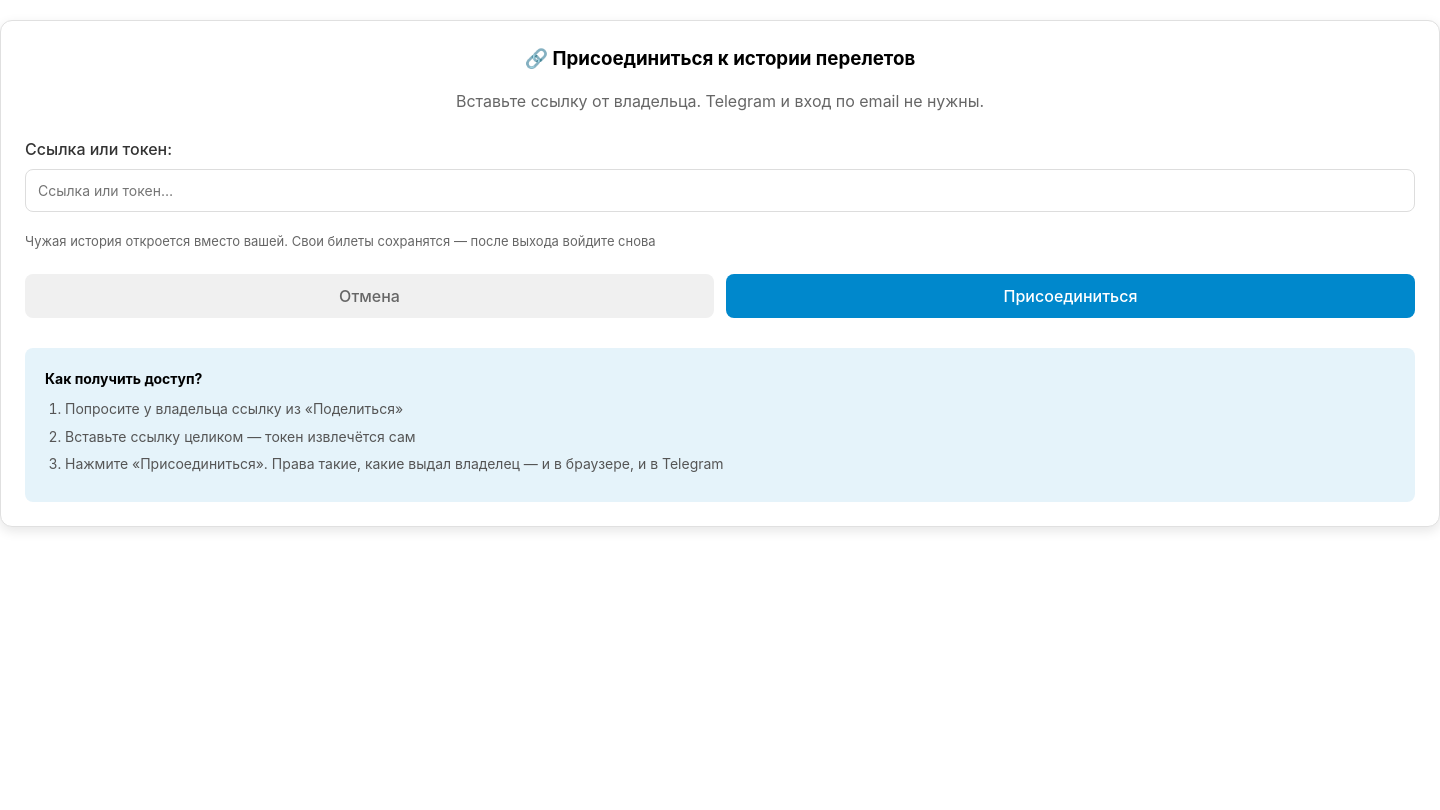
Test case: JoinSessionForm › does not send a random URL as a token
Type "https://example.com/flight-tracker/" into the field labelled "Ссылка или токен:" at (720,191), box [25,169,1415,212]
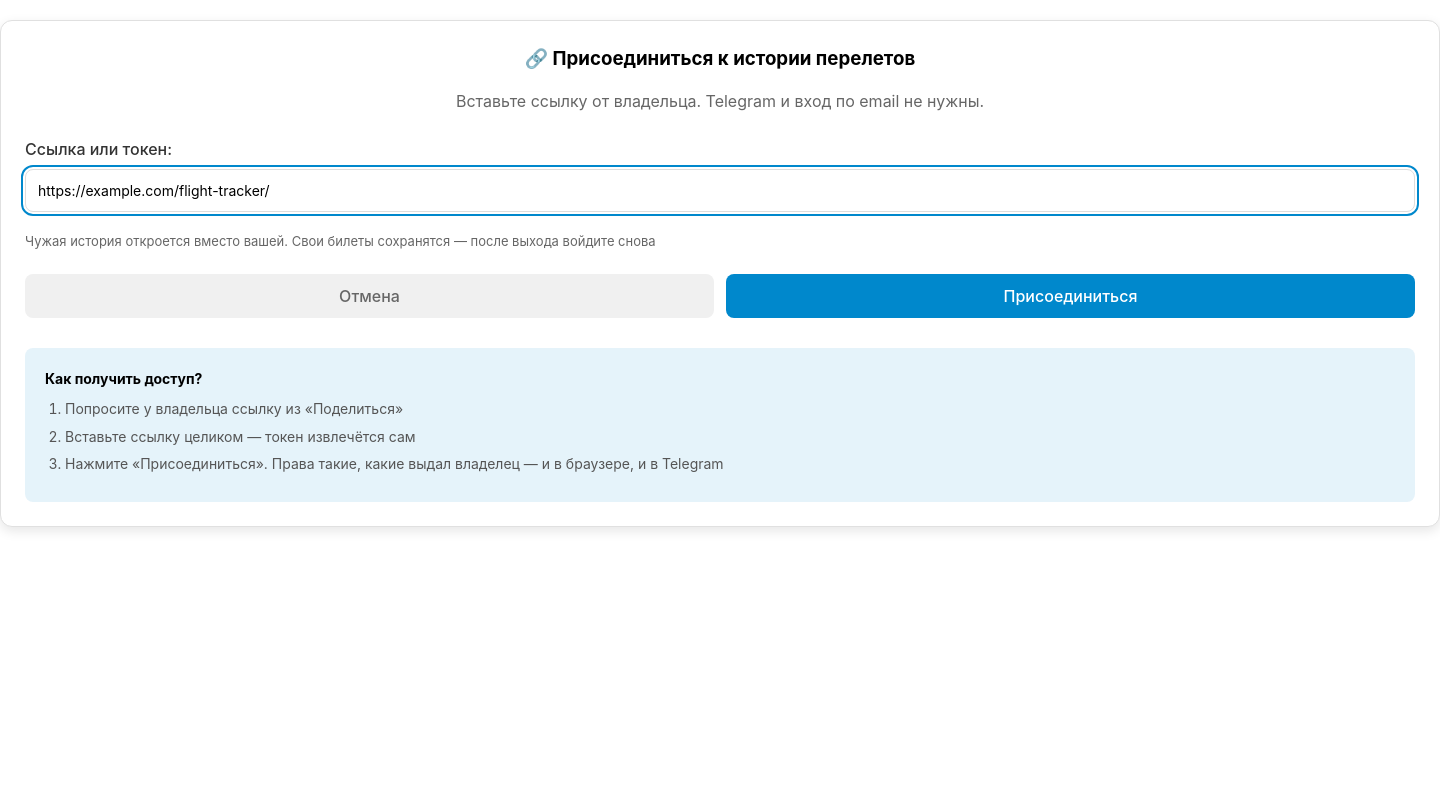
Click the button "Присоединиться" at (1070,296), box [726,274,1415,318]
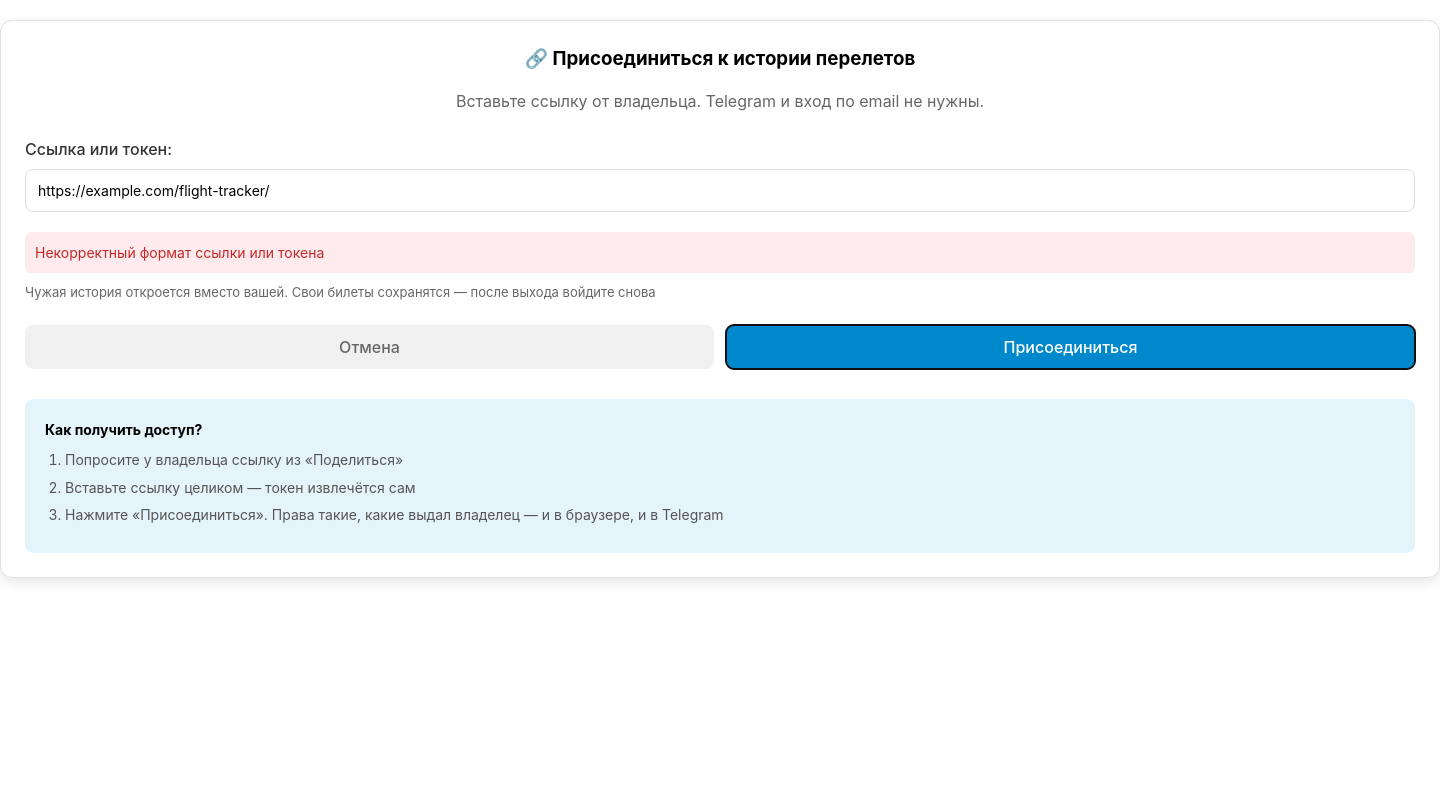
Check: the message shows "Некорректный формат", box [35,244,324,261]
